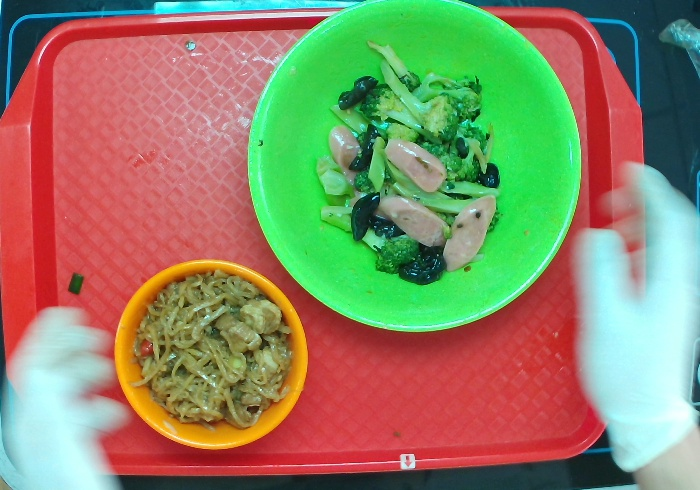YKMZ-Ju_Se_Yuan_Wan: (113, 256, 310, 451)
YKMZ-Lv_Se_Tang_Wan: (244, 1, 584, 333)
